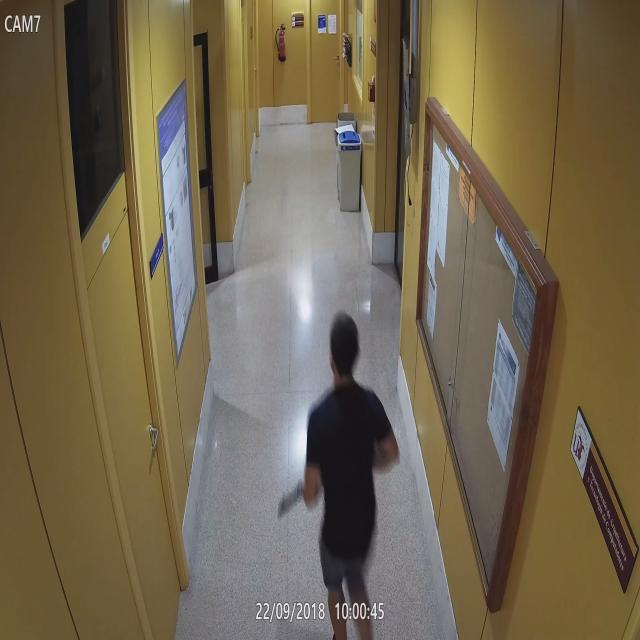pistol: (276, 474, 320, 520)
